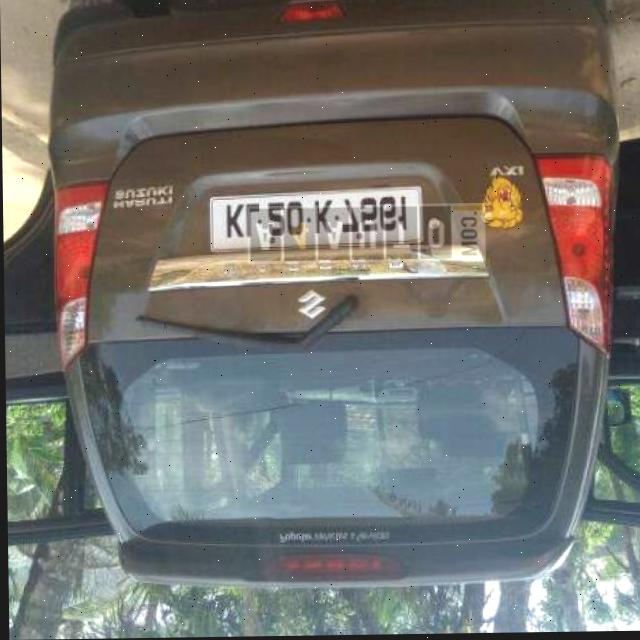plate: (209, 186, 423, 252)
